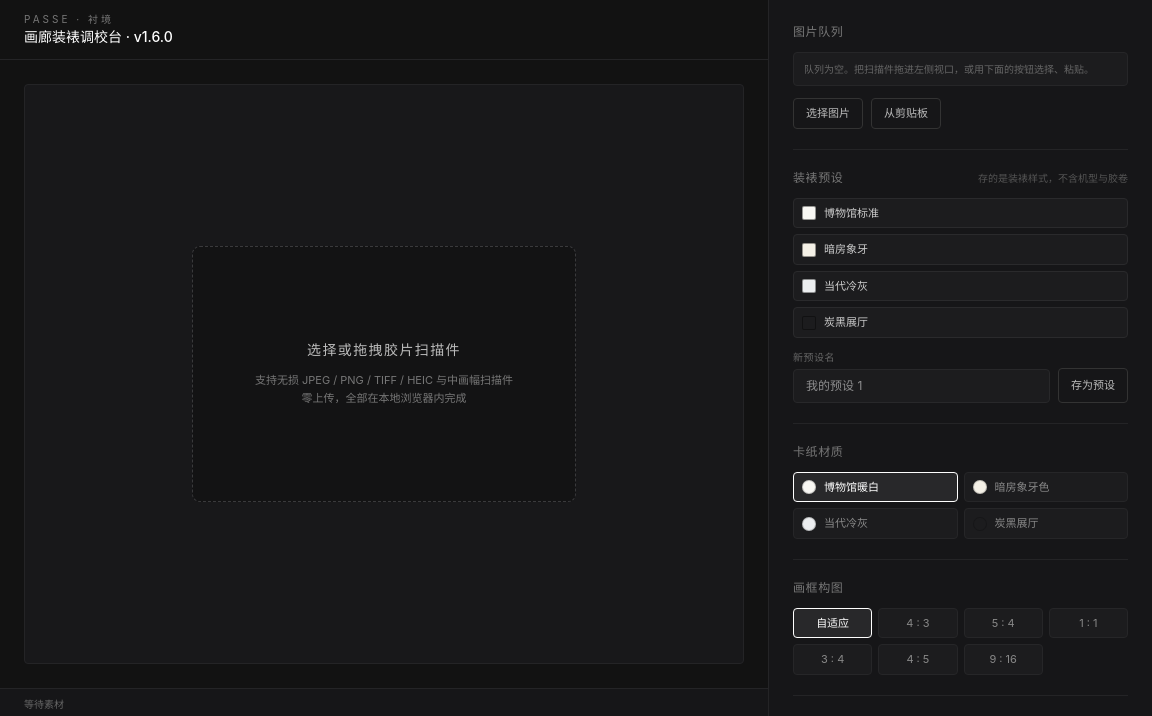
Test: 调校台 · 预设 › 刷新后（重新挂载）上次存的预设还在
Click the button "存为预设": (1093,386) [1058,368,1128,403]
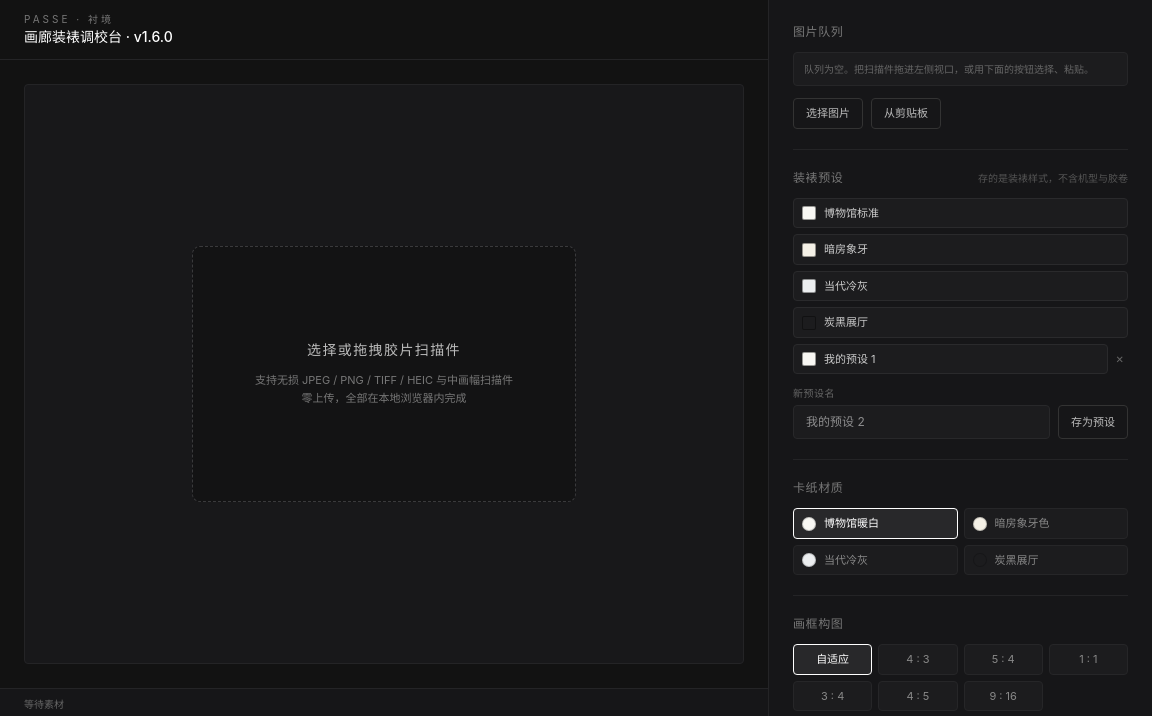
Expected: the text "我的预设 1" is shown, [824,351,876,367]
